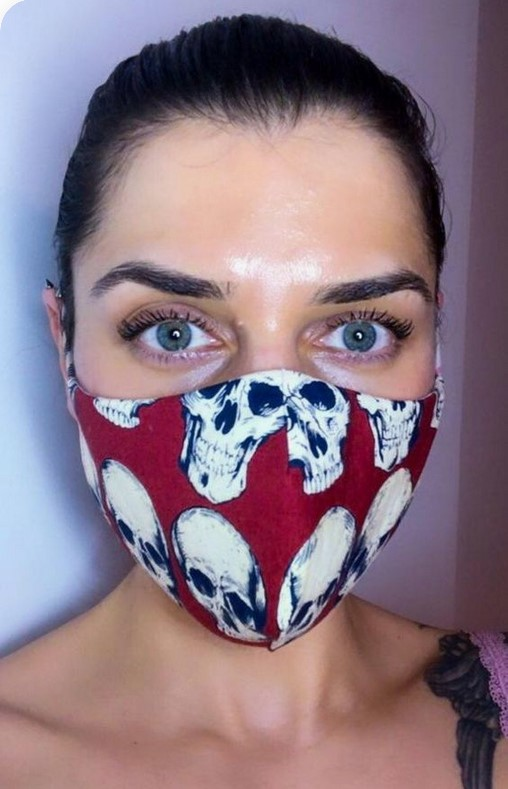face_with_mask: (41, 32, 445, 648)
